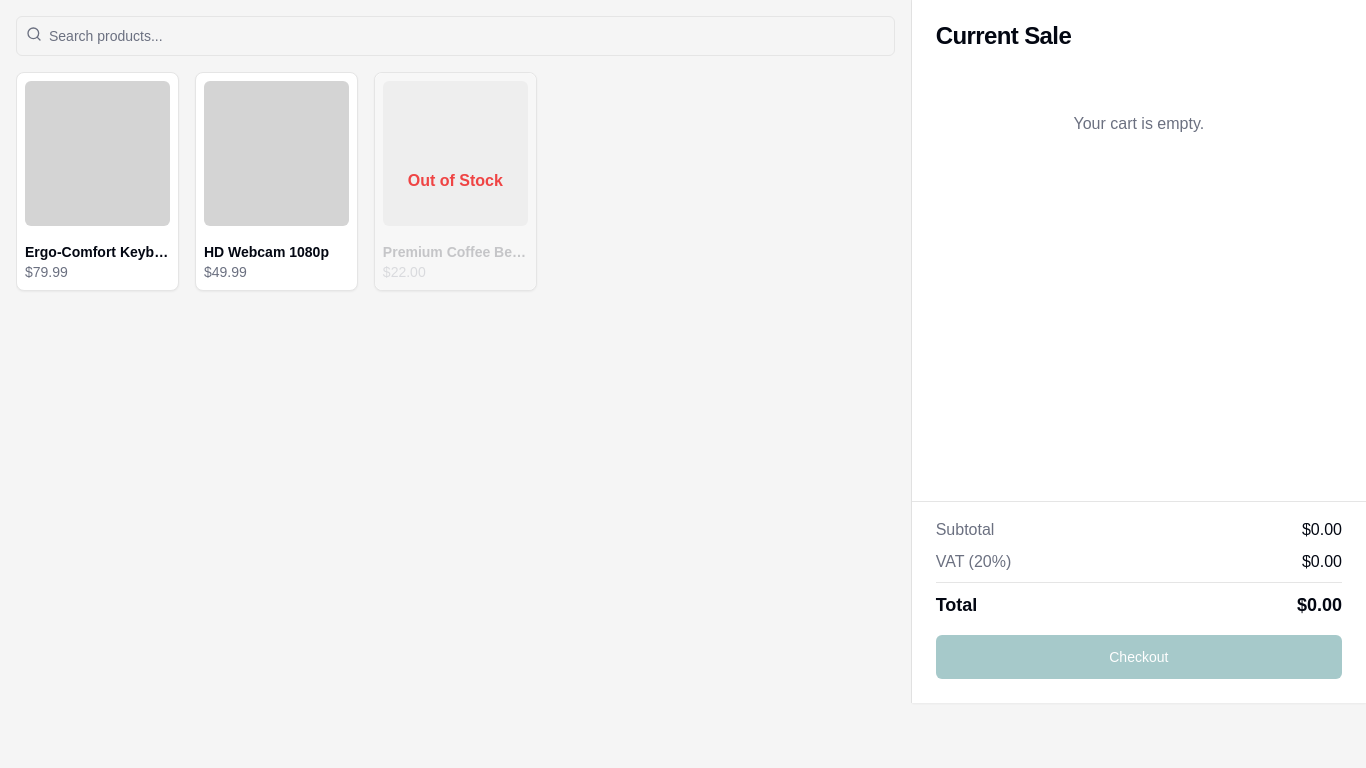
Test: PosPage › completes a sale and clears the cart
The width and height of the screenshot is (1366, 768).
Add item to cart
Click the text "Ergo-Comfort Keyboard".
click(97, 252)  # box [25,242,170,262]
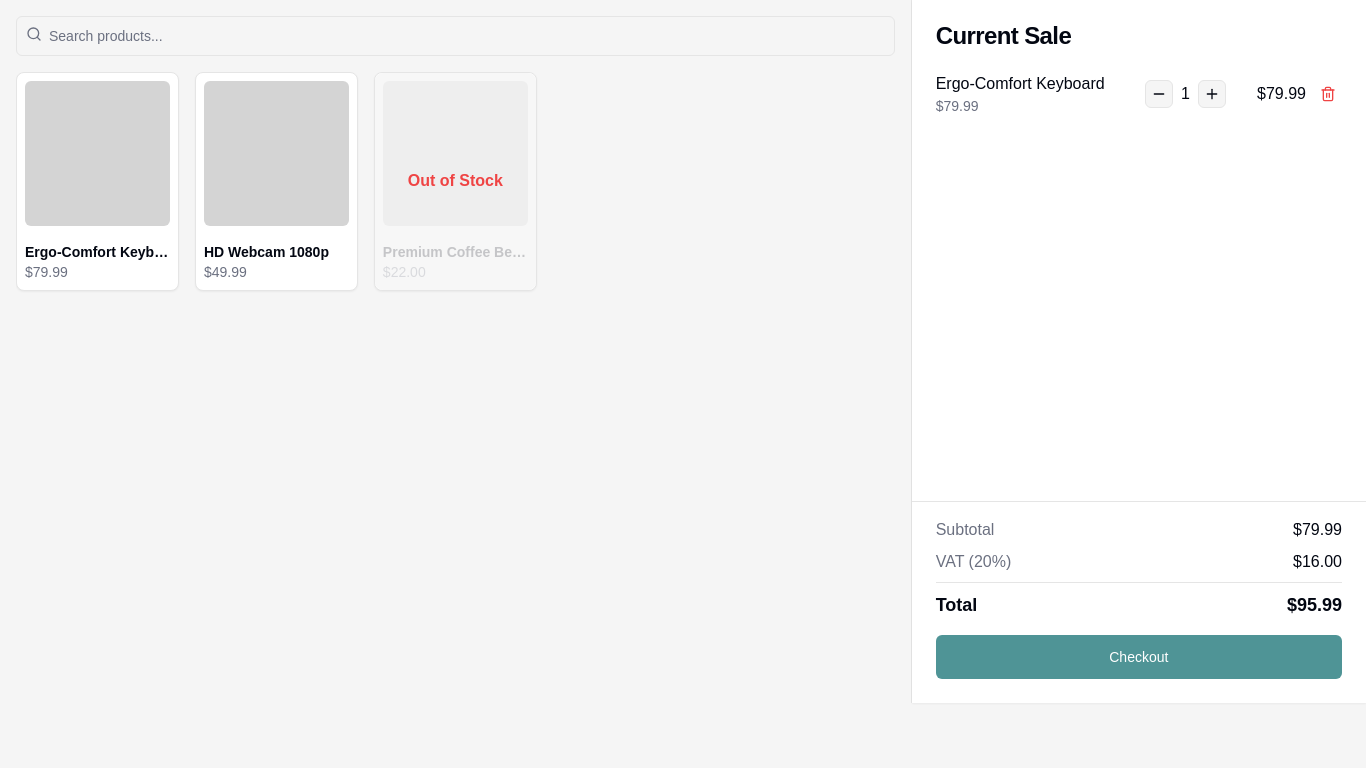
Open checkout
Click the button "Checkout".
click(1139, 657)  # box [936,635,1342,679]
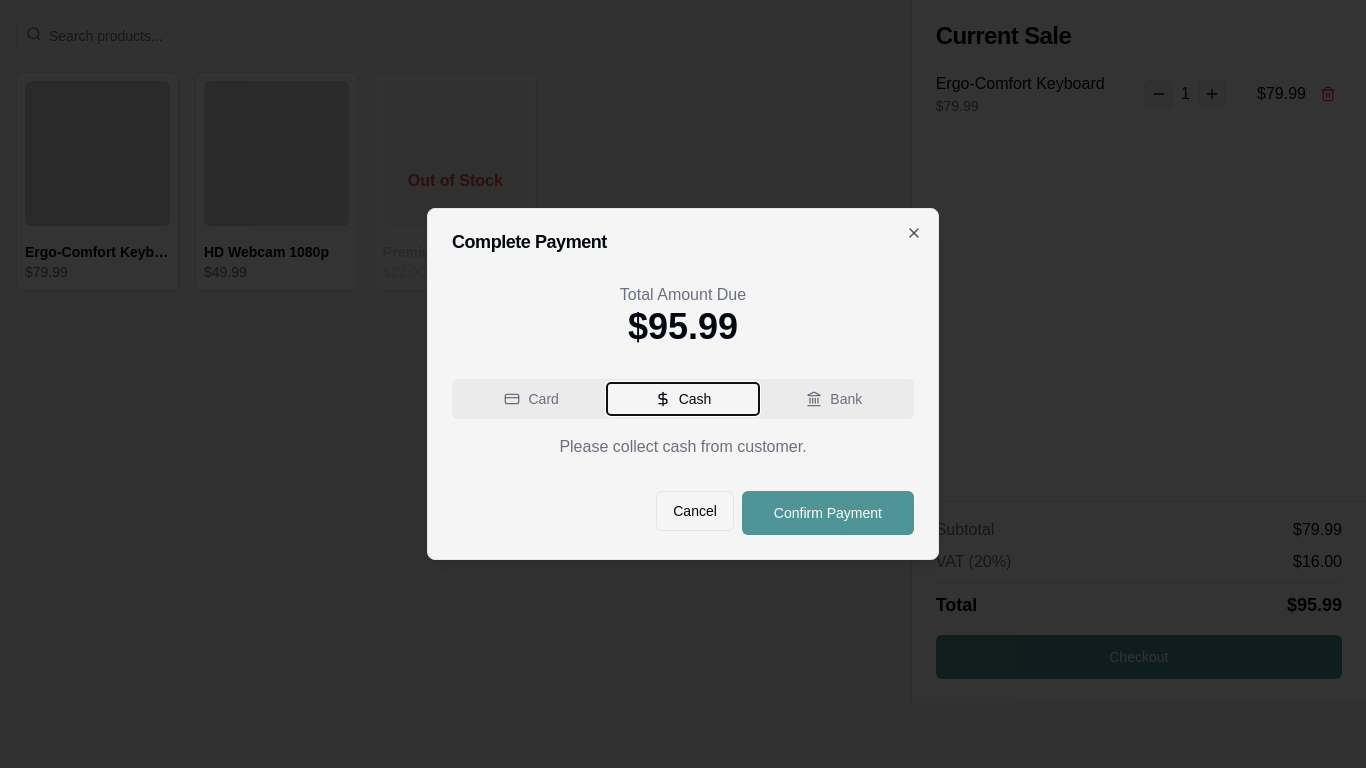
Confirm payment
Click the button "Confirm Payment".
click(828, 513)  # box [742,491,914,535]
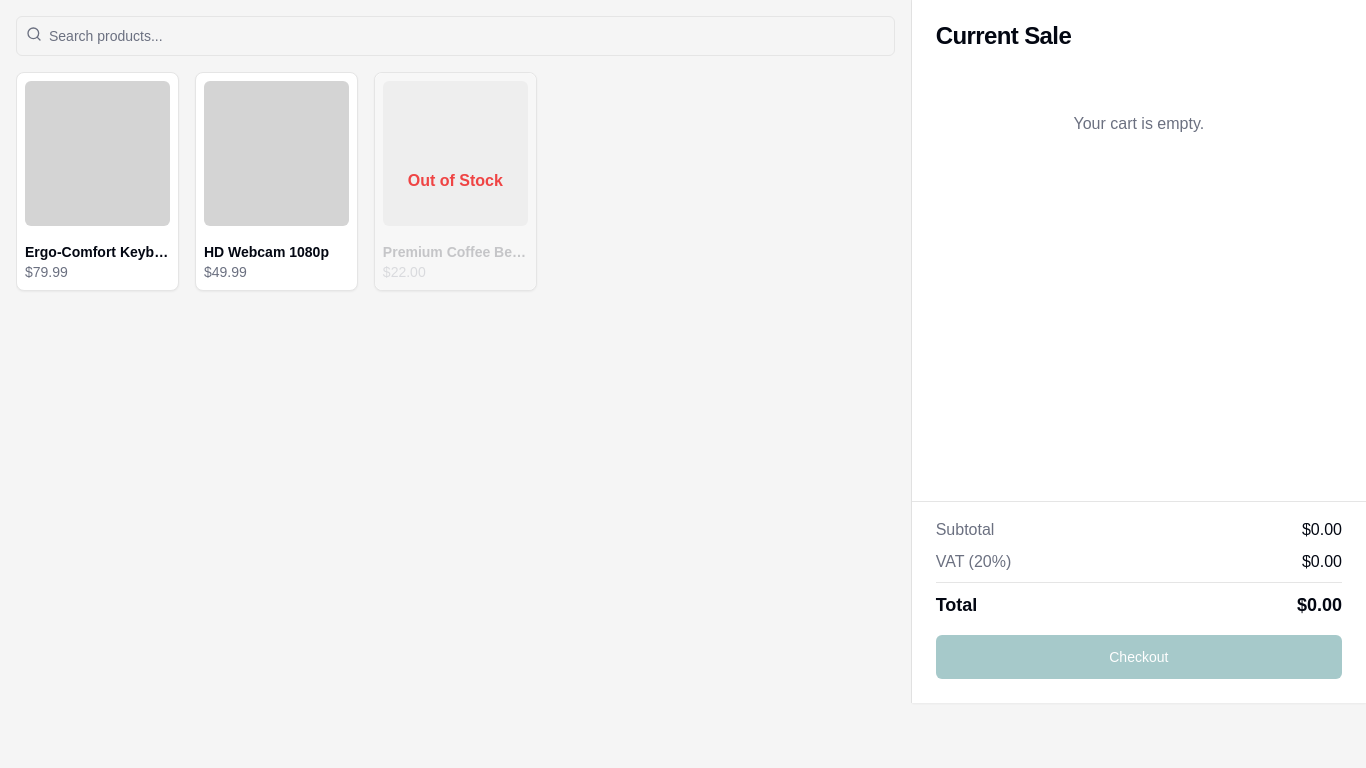
Result: the text "Your cart is empty." is shown at [1074,115,1204,132]
